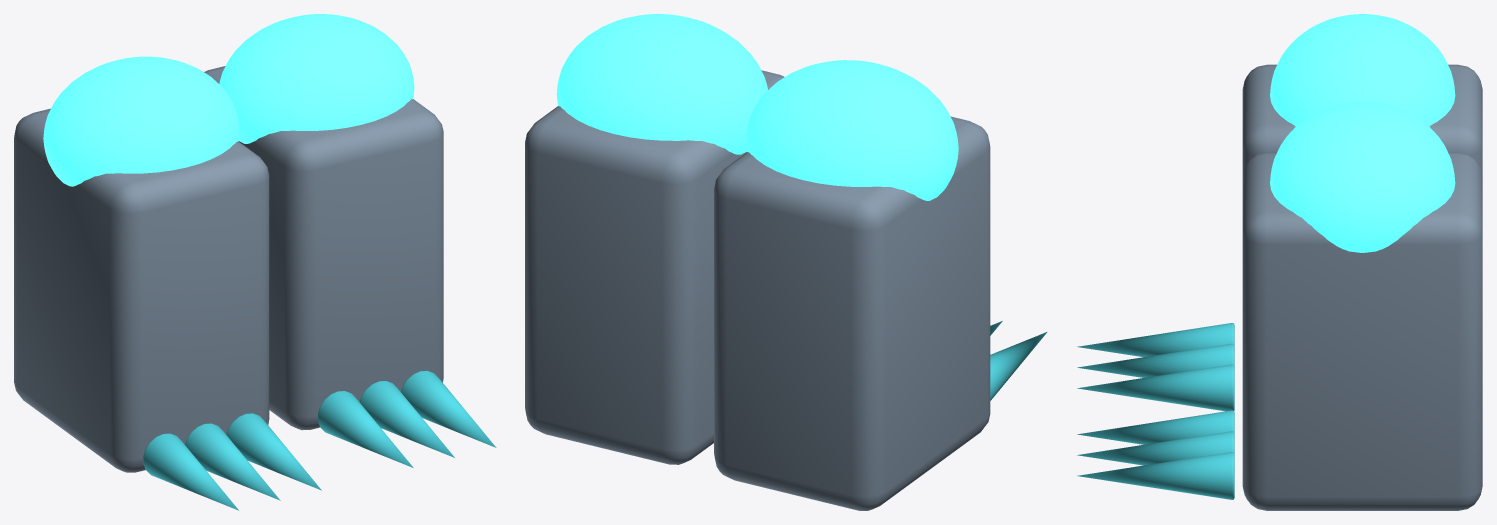
The model's file is boots_v5.glb.
The picture shows the model from 3 angles, left to right: view 1: azimuth 30°, elevation 25°; view 2: azimuth 150°, elevation 25°; view 3: azimuth 270°, elevation 25°; orthographic projection. The views are drawn at different scales.
Parts seen in each view (by area): view 1: CLAW_BOOT_PRIMARY, CLAW_BOOT_PRIMARY.001, CLAW_ANKLE_EMISSIVE, CLAW_ANKLE_EMISSIVE.001, SABATON_CLAW_ACCENT, SABATON_CLAW_ACCENT.003, SABATON_CLAW_ACCENT.002, SABATON_CLAW_ACCENT.001, SABATON_CLAW_ACCENT.005, SABATON_CLAW_ACCENT.004; view 2: CLAW_BOOT_PRIMARY, CLAW_BOOT_PRIMARY.001, CLAW_ANKLE_EMISSIVE, CLAW_ANKLE_EMISSIVE.001, SABATON_CLAW_ACCENT; view 3: CLAW_BOOT_PRIMARY.001, CLAW_ANKLE_EMISSIVE.001, CLAW_ANKLE_EMISSIVE, CLAW_BOOT_PRIMARY, SABATON_CLAW_ACCENT.005, SABATON_CLAW_ACCENT.002, SABATON_CLAW_ACCENT.003, SABATON_CLAW_ACCENT.001, SABATON_CLAW_ACCENT.004, SABATON_CLAW_ACCENT.
Boxes of the visible parts, x1,y1,x2,y2 form: CLAW_BOOT_PRIMARY: (14,108,269,472); CLAW_BOOT_PRIMARY.001: (204,66,443,430); CLAW_ANKLE_EMISSIVE: (43,56,239,186); CLAW_ANKLE_EMISSIVE.001: (219,14,414,143); SABATON_CLAW_ACCENT: (143,433,238,510); SABATON_CLAW_ACCENT.003: (318,391,413,467); SABATON_CLAW_ACCENT.002: (226,413,321,490); SABATON_CLAW_ACCENT.001: (185,423,280,500); SABATON_CLAW_ACCENT.005: (401,370,496,447); SABATON_CLAW_ACCENT.004: (359,381,454,457); CLAW_BOOT_PRIMARY: (714,116,990,510); CLAW_BOOT_PRIMARY.001: (525,70,784,464); CLAW_ANKLE_EMISSIVE: (746,60,958,200); CLAW_ANKLE_EMISSIVE.001: (556,14,767,154); SABATON_CLAW_ACCENT: (990,332,1047,400); CLAW_BOOT_PRIMARY.001: (1242,152,1482,510); CLAW_ANKLE_EMISSIVE.001: (1270,101,1455,252); CLAW_ANKLE_EMISSIVE: (1270,14,1455,126); CLAW_BOOT_PRIMARY: (1242,64,1482,175); SABATON_CLAW_ACCENT.005: (1077,452,1234,499); SABATON_CLAW_ACCENT.002: (1077,364,1234,411); SABATON_CLAW_ACCENT.003: (1077,410,1234,444); SABATON_CLAW_ACCENT.001: (1077,343,1234,377); SABATON_CLAW_ACCENT.004: (1077,431,1234,465); SABATON_CLAW_ACCENT: (1077,323,1234,357).
Size of the model in its own units: 1.52 by 1.48 by 1.49.
